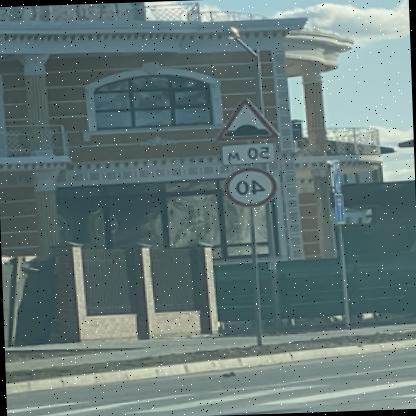speedlimit: (229, 165, 282, 208)
